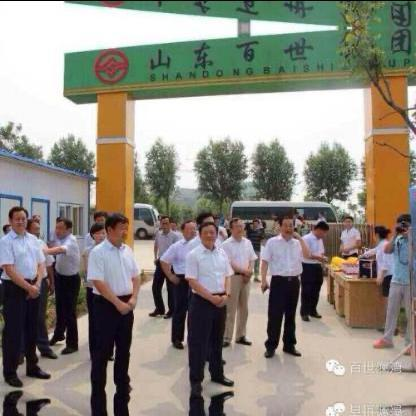No Helmet: (104, 210, 126, 244), (6, 204, 26, 233), (50, 214, 72, 238), (89, 220, 107, 246), (197, 219, 216, 243), (275, 212, 293, 235), (391, 212, 409, 235), (368, 222, 386, 242), (227, 214, 245, 233), (25, 216, 41, 237), (180, 217, 194, 239), (312, 219, 328, 237), (156, 214, 170, 230), (340, 212, 352, 230), (170, 220, 177, 233)
